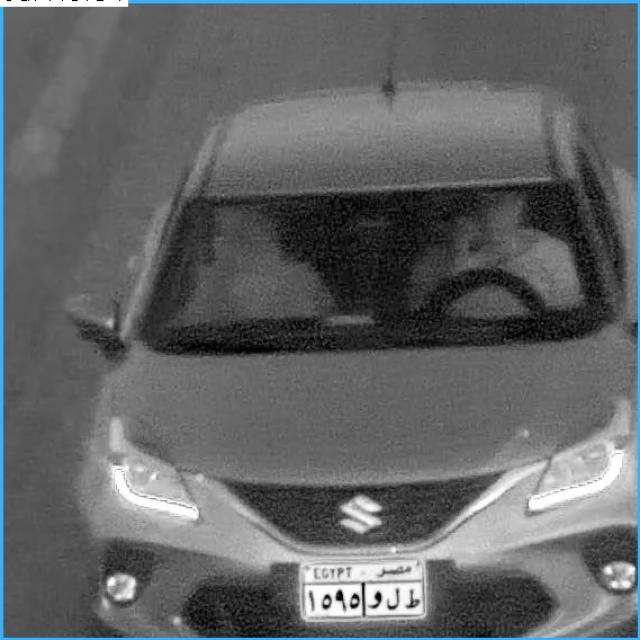windshield: (138, 177, 602, 362)
